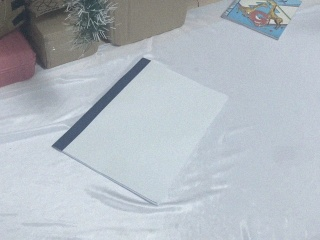book: (222, 1, 303, 42)
box: (2, 1, 100, 70), (81, 1, 202, 47)
